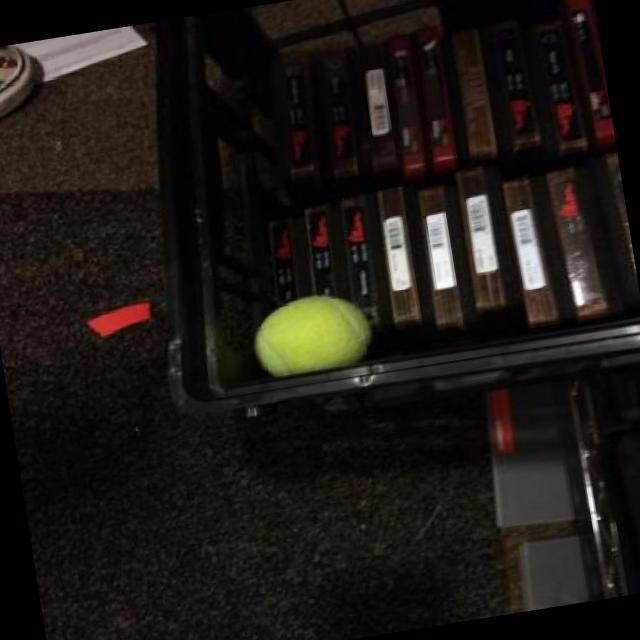-: (217, 266, 394, 413)
